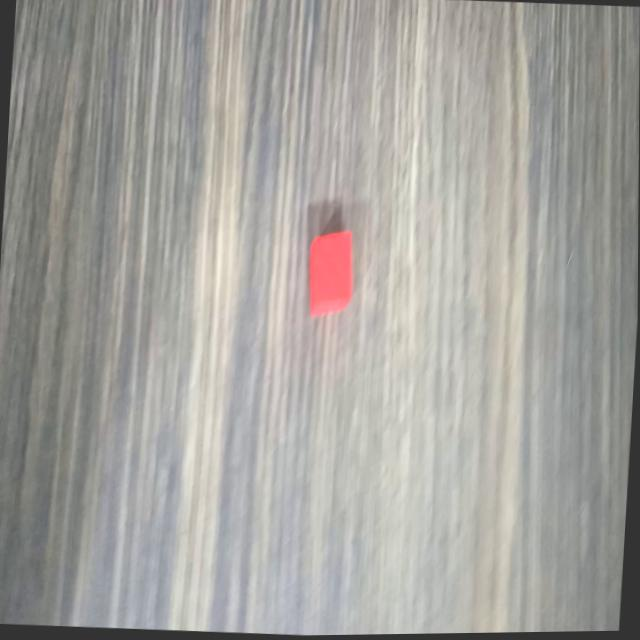cube: (306, 224, 359, 323)
